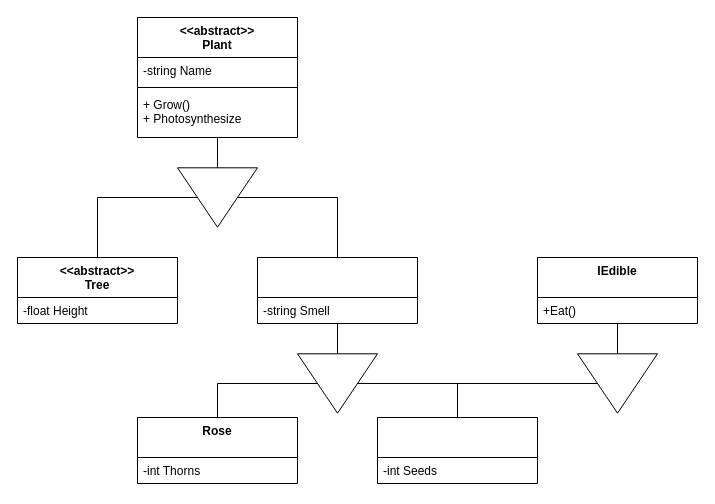
Some shapes in this 715 by 504 pixel diagram are drawn without their labels. The box of each missing label's shape, as (x1, y1, x2, y2) in pixels:
<<abstract>> Flower: (256, 256, 418, 324)
Sunflower: (376, 416, 538, 484)
